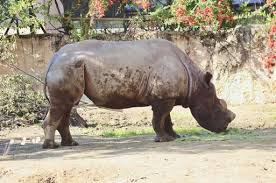Rhinoceros: (24, 36, 238, 155)
